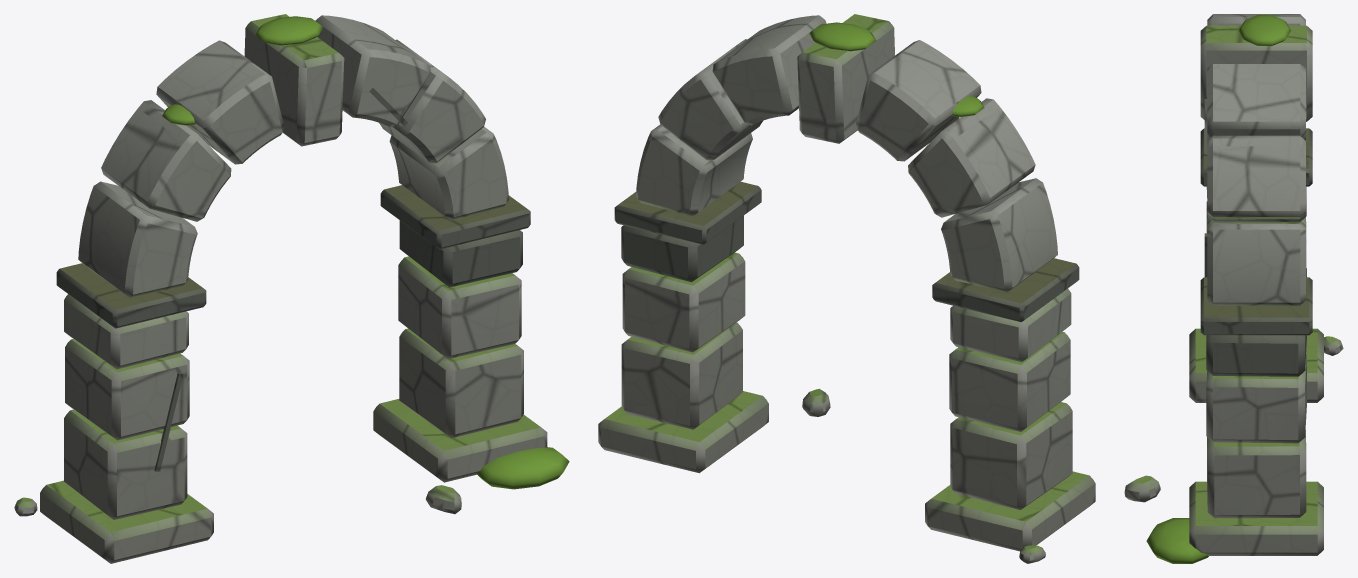
File: stone_arch_small.glb
3 views of the same model, side by side, from view 1: azimuth 30°, elevation 25°; view 2: azimuth 150°, elevation 25°; view 3: azimuth 270°, elevation 25° (orthographic). The views are drawn at different scales.
Parts seen in each view (by area): view 1: stone_arch_small; view 2: stone_arch_small; view 3: stone_arch_small.
Part boxes in pixels (box(x1,y1,x2,y2)): stone_arch_small: box(14, 14, 569, 563); stone_arch_small: box(598, 14, 1095, 563); stone_arch_small: box(1124, 14, 1343, 563).
Size of the model in its own units: 3.1 by 2.98 by 1.33.
Materials: 3 (3 with a texture image).
